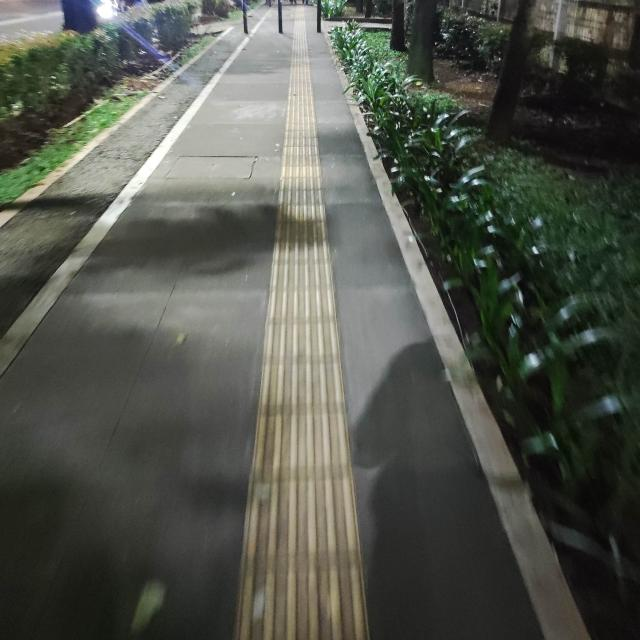lurus: (242, 72, 364, 640)
